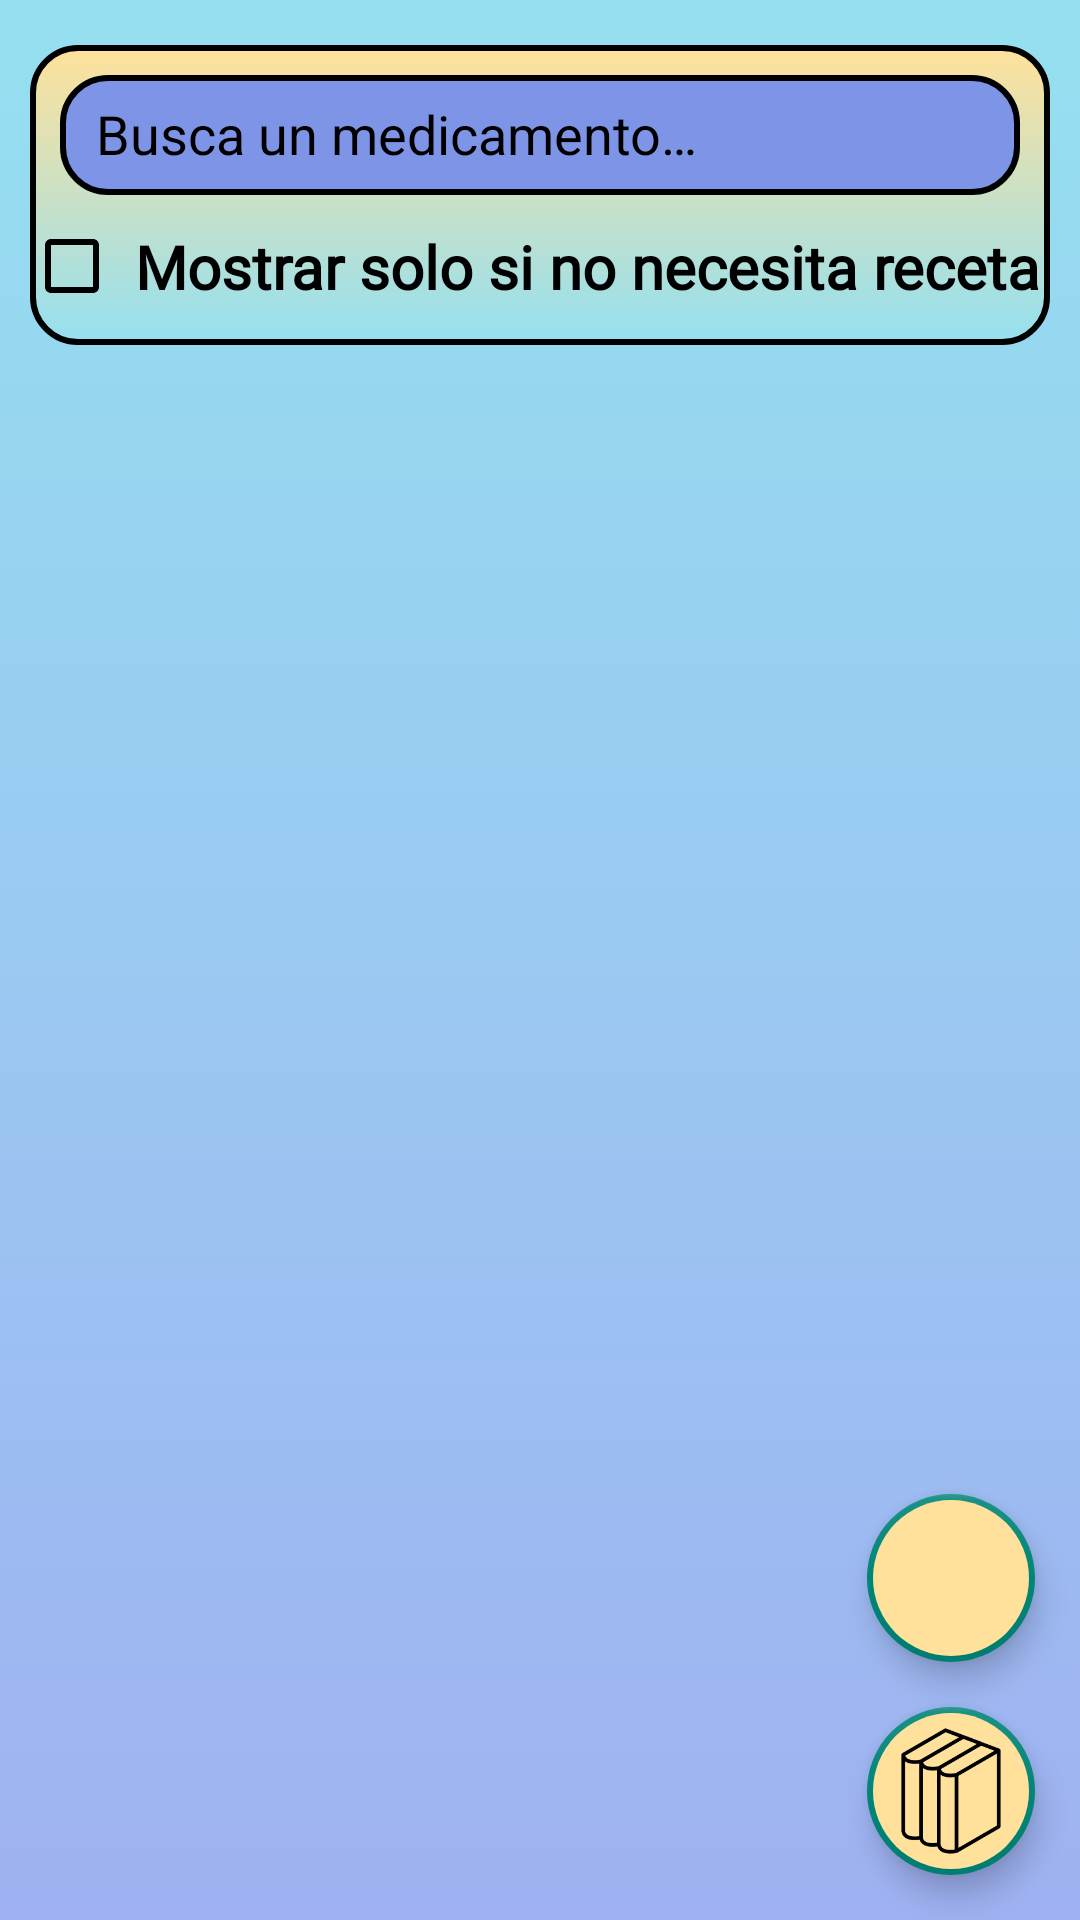

Locate icon controls on the screen. Image size 1080px×1920px, boxes as (x1, y1, x2, y2).
Buscar en catálogo: (867, 1707, 1035, 1875)
